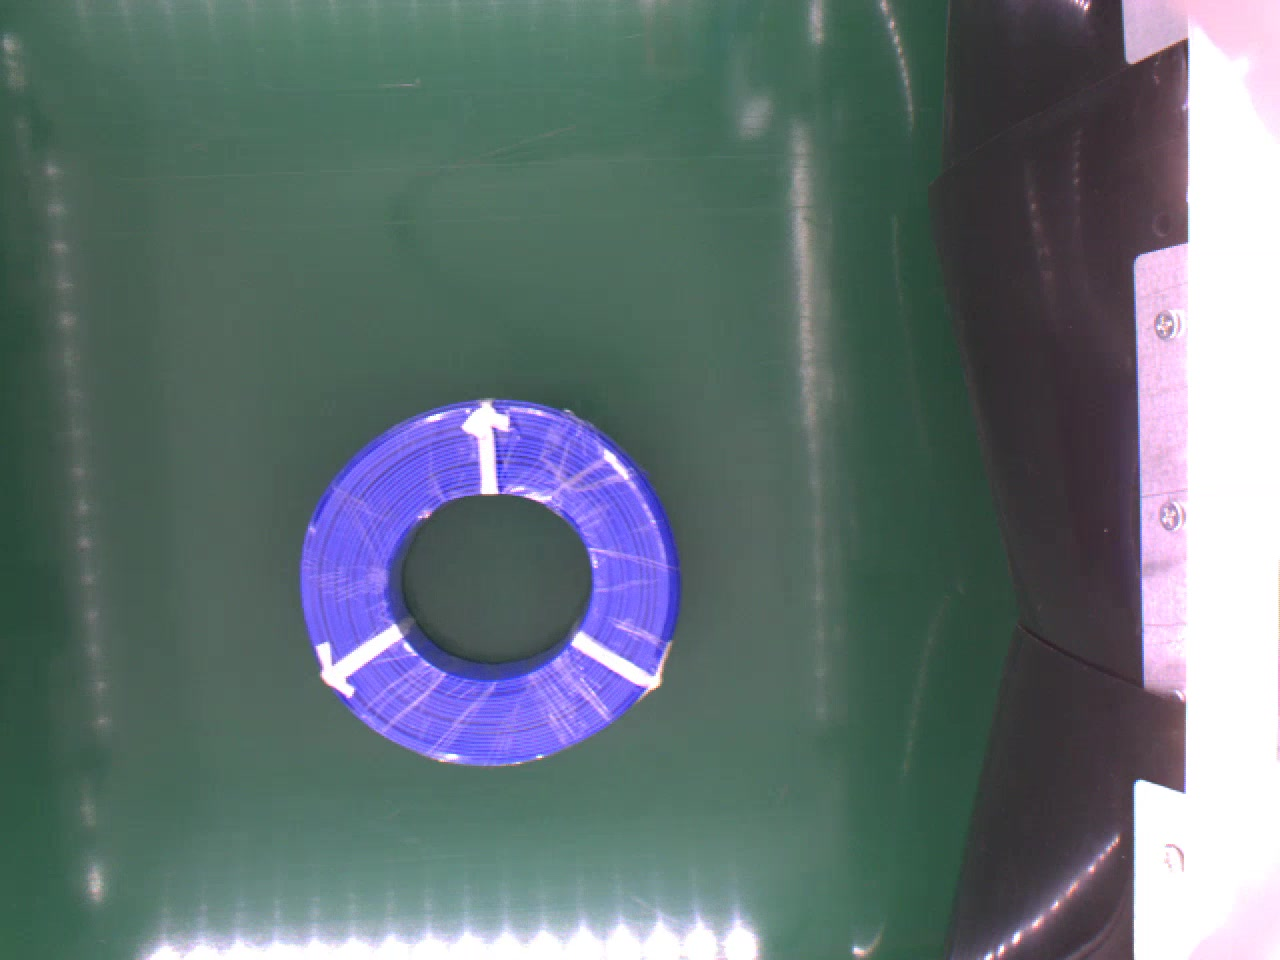blue: (282, 393, 681, 766)
